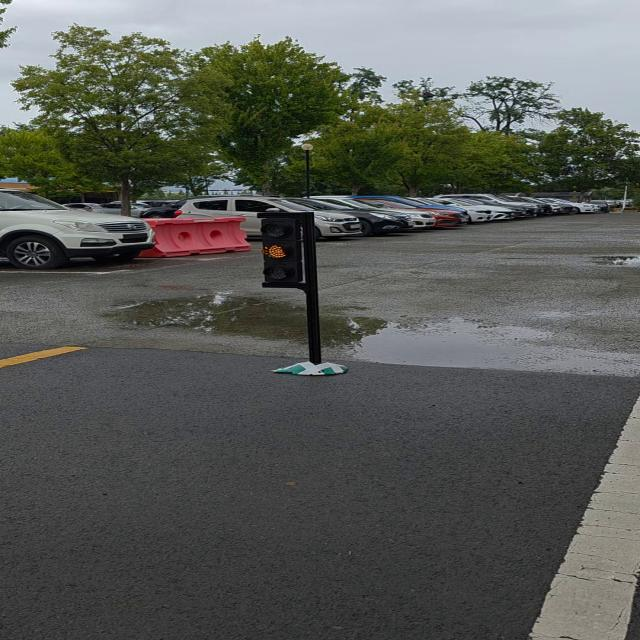yellow: (264, 217, 317, 286)
